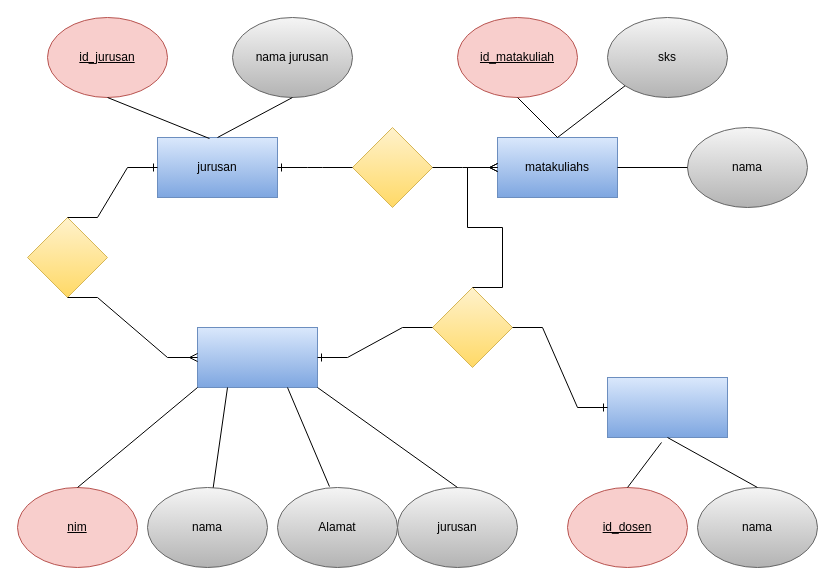
The diagram is 835 pixels wide and 585 high, and some of its shapes have lost their labels. Here are the shapes that lost their labels. From the top down, the centre of each, then its label:
At [392,167]: "ada".
At [67,257]: "ambil".
At [472,327]: "nilai".
At [257,357]: "mahasiswas".
At [667,407]: "dosens".
